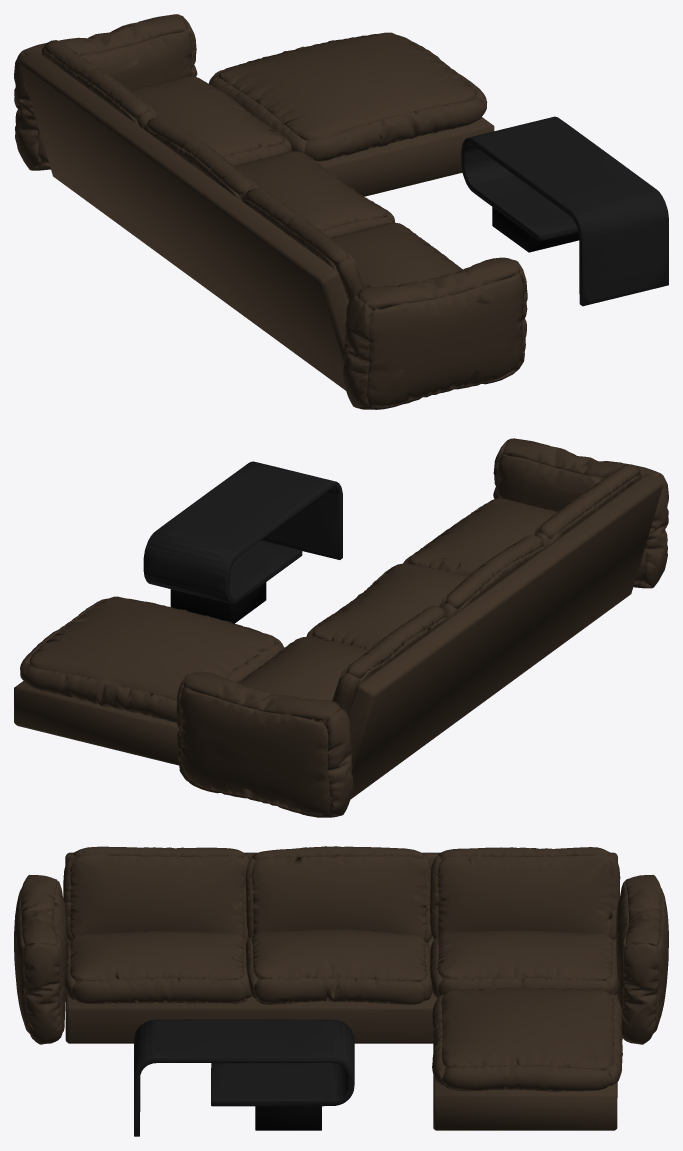
Rendered from furniture.glb.
3 views of the same model, one above another, from view 1: azimuth 30°, elevation 25°; view 2: azimuth 150°, elevation 25°; view 3: azimuth 270°, elevation 25° (orthographic). The views are drawn at different scales.
Parts seen in each view (by area): view 1: G-Group34294, G-Line001, G-Group44310, G-ChamferBox001, G-Box001; view 2: G-Group34294, G-Group44310, G-Line001, G-ChamferBox001, G-Box001; view 3: G-Group34294, G-Group44310, G-Line001, G-ChamferBox001, G-Box001.
Part boxes in pixels (x1=…): G-Group34294: x1=14, y1=14, x2=527, y2=409; G-Line001: x1=461, y1=116, x2=668, y2=306; G-Group44310: x1=209, y1=32, x2=487, y2=161; G-ChamferBox001: x1=317, y1=117, x2=494, y2=196; G-Box001: x1=492, y1=207, x2=579, y2=252; G-Group34294: x1=176, y1=438, x2=668, y2=817; G-Group44310: x1=20, y1=596, x2=284, y2=722; G-Line001: x1=143, y1=461, x2=342, y2=604; G-ChamferBox001: x1=14, y1=681, x2=179, y2=765; G-Box001: x1=170, y1=582, x2=266, y2=623; G-Group34294: x1=14, y1=846, x2=668, y2=1044; G-Group44310: x1=432, y1=987, x2=622, y2=1091; G-Line001: x1=134, y1=1019, x2=354, y2=1136; G-ChamferBox001: x1=433, y1=1040, x2=617, y2=1130; G-Box001: x1=255, y1=1106, x2=321, y2=1130.
Size of the model in its own units: 1.31 by 0.4737 by 2.13.
